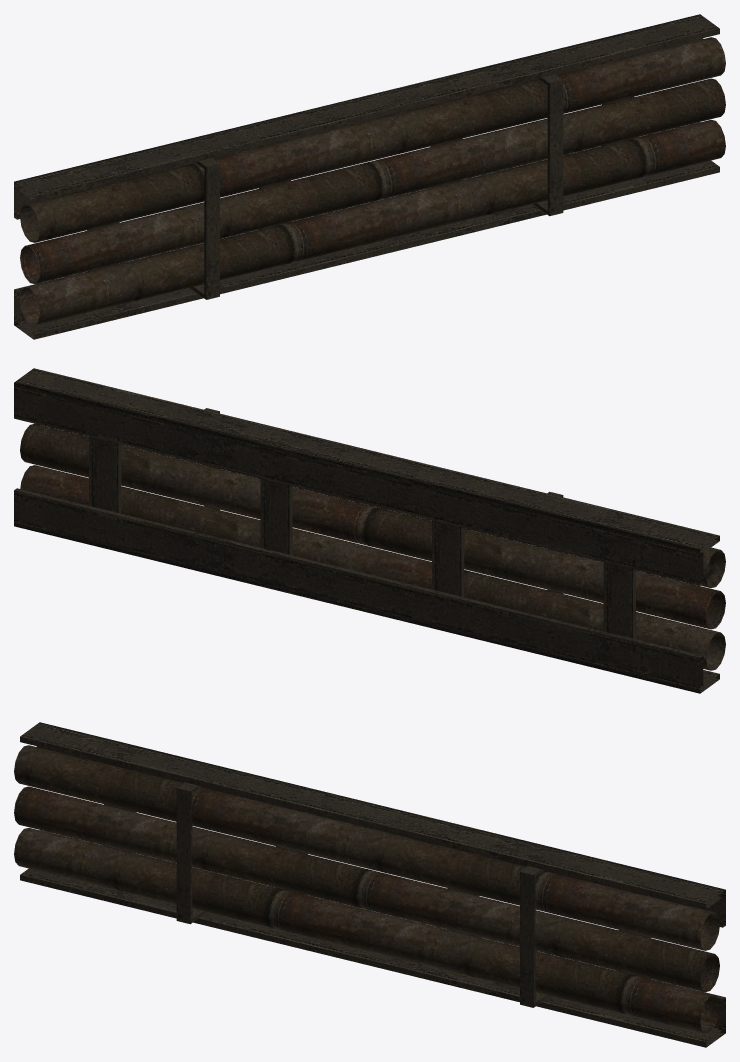
File: pipes_hr_5_middle.glb
3 views of the same model, one above another, from view 1: azimuth 30°, elevation 25°; view 2: azimuth 150°, elevation 25°; view 3: azimuth 330°, elevation 25° (orthographic).
Visible parts, largest first — view 1: pipes_hr_5_middle; view 2: pipes_hr_5_middle; view 3: pipes_hr_5_middle.
Part boxes in pixels (x1=…): pipes_hr_5_middle: x1=14, y1=14, x2=725, y2=339; pipes_hr_5_middle: x1=14, y1=368, x2=725, y2=693; pipes_hr_5_middle: x1=14, y1=722, x2=725, y2=1047.
Size of the model in its own units: 4 by 0.8 by 0.28.
Materials: 3 (3 with a texture image).
